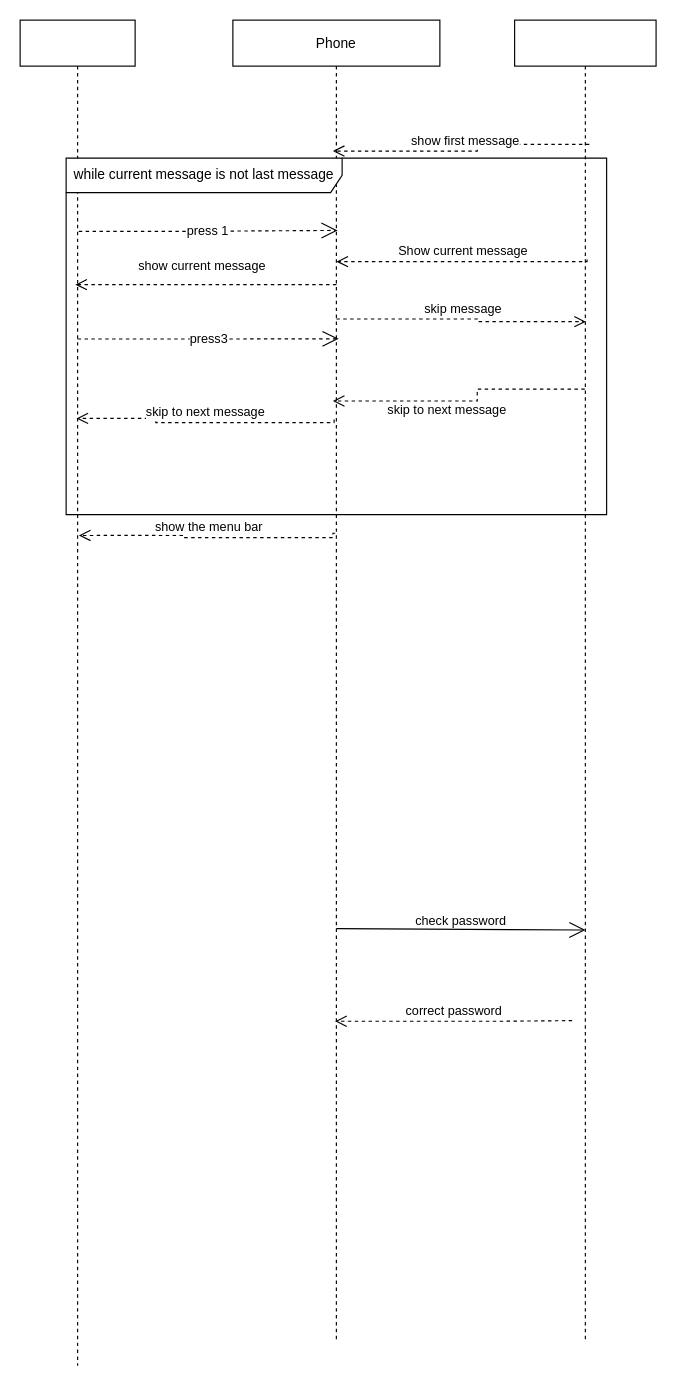
Image size: 676x1386. Some labels were removed from this diagram. The shapes that lost their labels are listed below. From the top down, each one's box as (x1, y1, x2, y2) in pixels, then its label:
(19, 19, 135, 1366): User
(513, 19, 656, 1343): Phone system
